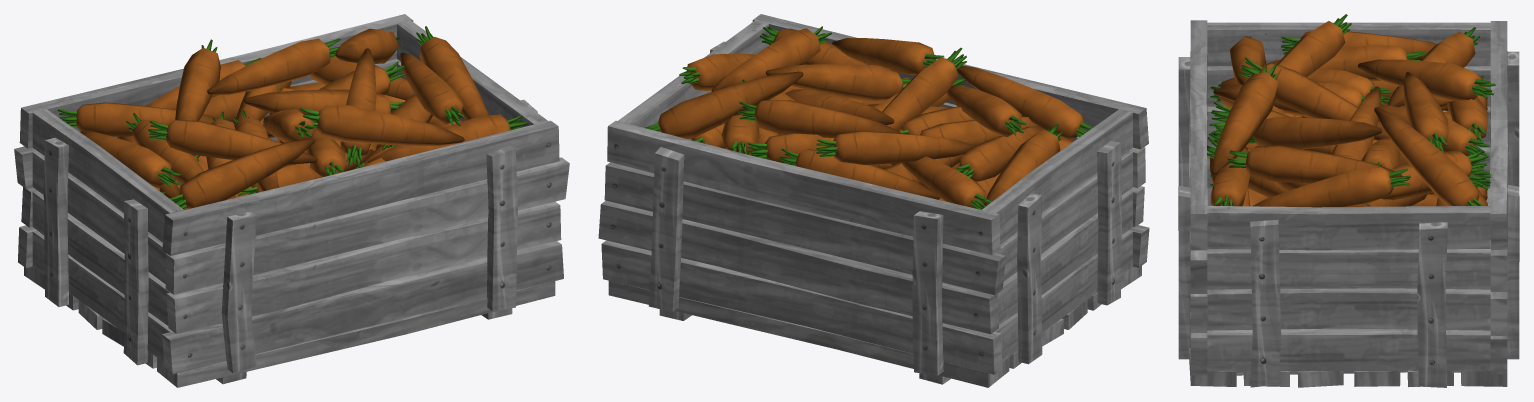
Rendered from Crate01B.fbx.
The picture shows the model from 3 angles, left to right: view 1: azimuth 30°, elevation 25°; view 2: azimuth 150°, elevation 25°; view 3: azimuth 270°, elevation 25°; orthographic projection. The views are drawn at different scales.
Parts seen in each view (by area): view 1: Crate01_LOD0, Carrots04_LOD0, Carrots03_LOD0; view 2: Crate01_LOD0, Carrots04_LOD0, Carrots03_LOD0; view 3: Crate01_LOD0, Carrots04_LOD0, Carrots03_LOD0, Carrots02_LOD0.
Boxes of the visible parts, <box> form: Crate01_LOD0: <box>14,14,569,387</box>; Carrots04_LOD0: <box>57,26,528,209</box>; Carrots03_LOD0: <box>117,82,461,209</box>; Crate01_LOD0: <box>598,14,1149,387</box>; Carrots04_LOD0: <box>644,26,1092,209</box>; Carrots03_LOD0: <box>691,77,1073,209</box>; Crate01_LOD0: <box>1178,20,1519,387</box>; Carrots04_LOD0: <box>1210,14,1495,207</box>; Carrots03_LOD0: <box>1207,75,1487,206</box>; Carrots02_LOD0: <box>1211,139,1490,206</box>.
Size of what is drawn, in the model's own units: 88.9 by 46.65 by 63.42.
